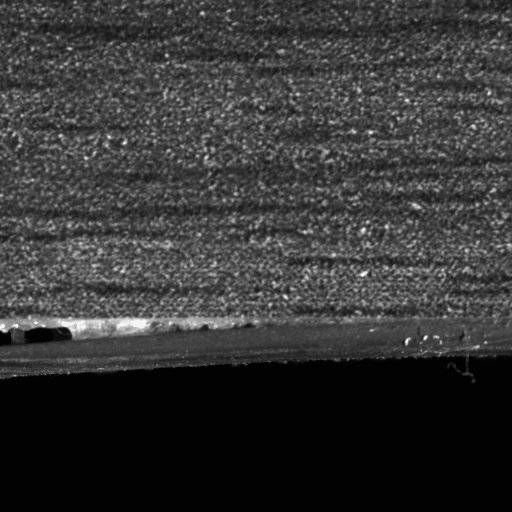kaijiao: (2, 311, 510, 388)
